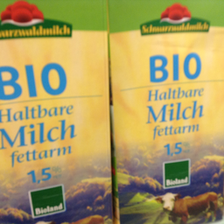milk: (107, 1, 222, 223), (1, 1, 114, 224)
